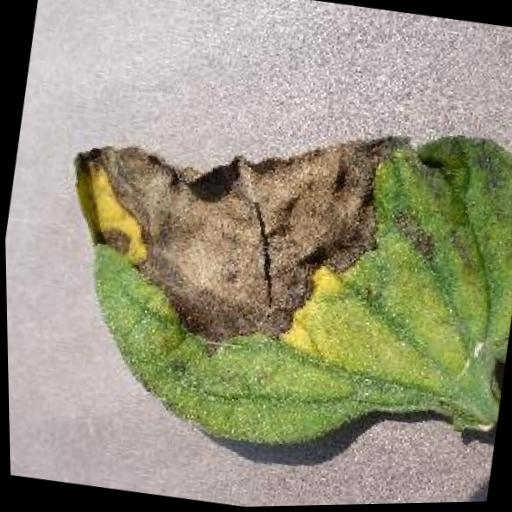Late Blight: (31, 72, 512, 485)
